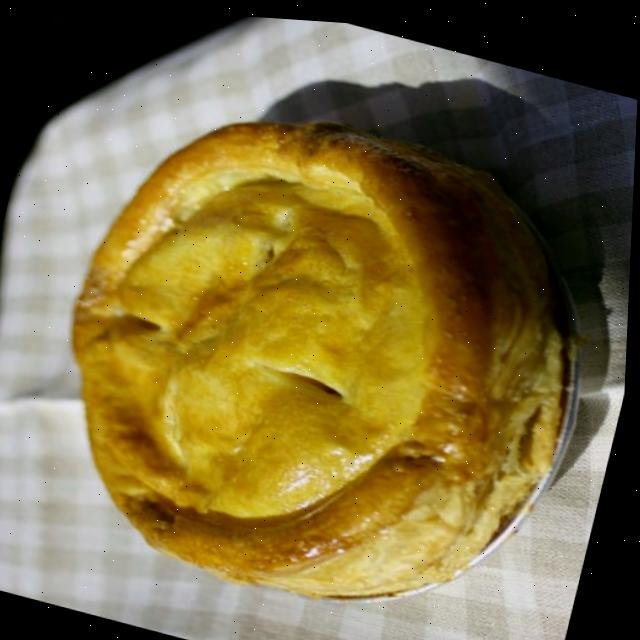炸货点心: (0, 37, 639, 640)
蛋糕甜品: (0, 37, 639, 640)
